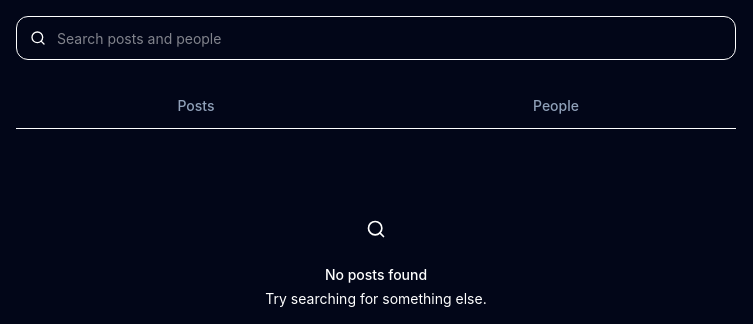
Scenario: SearchPage › does not show message actions for unauthenticated users
Click the button "People". click: (556, 106)
box: [376,84,736,128]
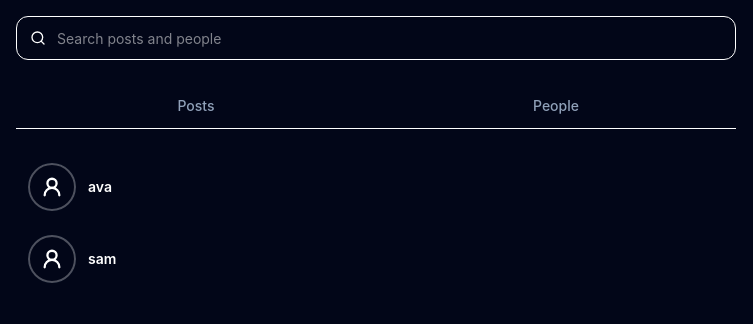
expect the text "sam" is shown: met, box [88,249,116,269]
